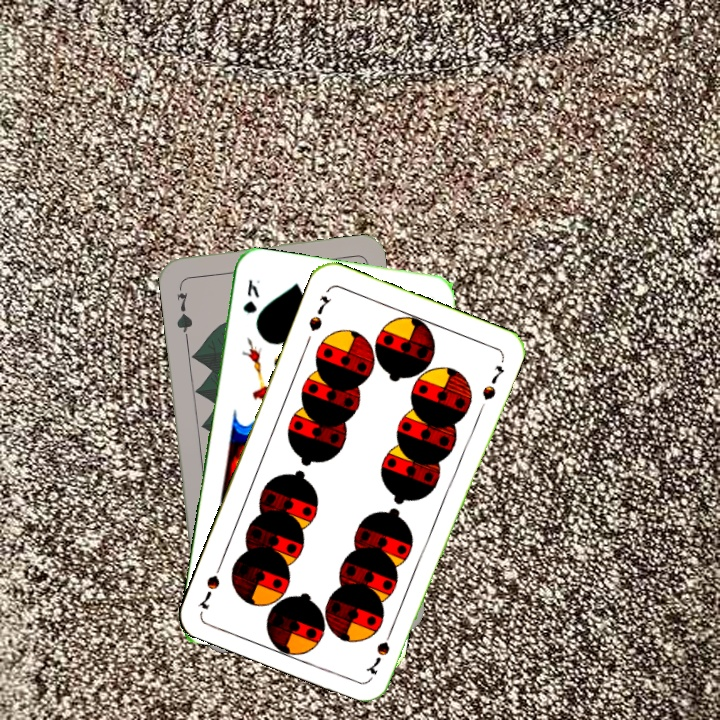G7: (172, 280, 195, 339)
GK: (239, 276, 263, 316)
S7: (363, 622, 397, 677), (304, 291, 335, 334)
